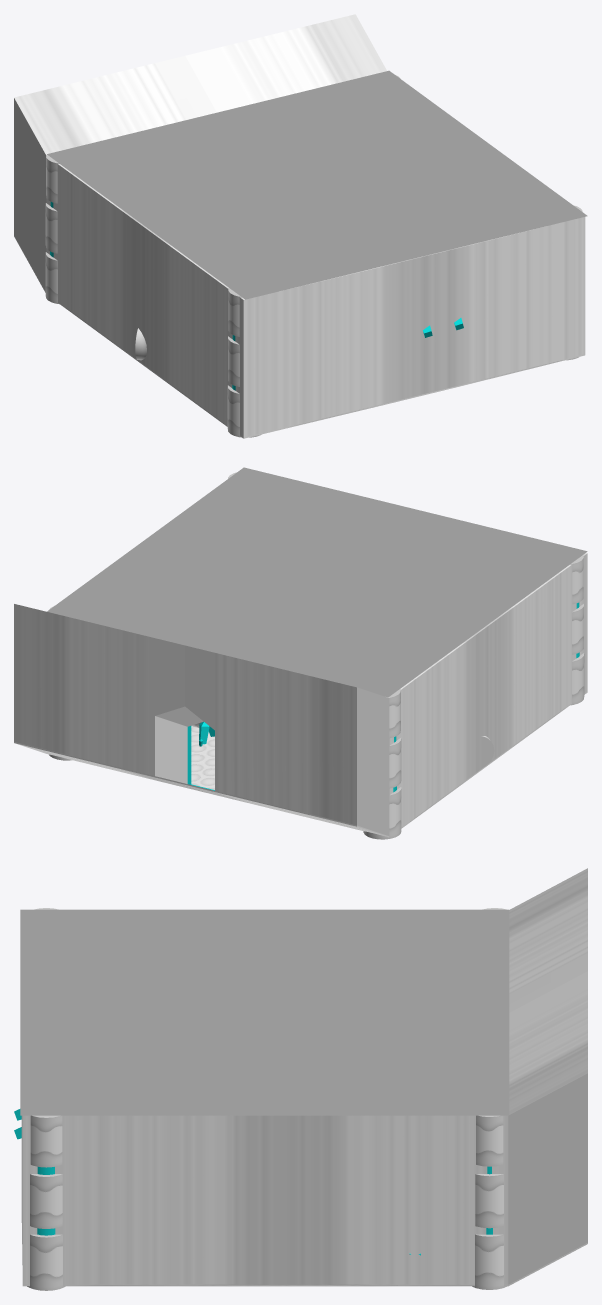
File: SM_Boss_Level_Test.fbx
The picture shows the model from 3 angles, top to bottom: view 1: azimuth 30°, elevation 25°; view 2: azimuth 150°, elevation 25°; view 3: azimuth 270°, elevation 25°; orthographic projection. The views are drawn at different scales.
Visible parts, largest first — view 1: Walls, Roof, pasted__pCylinder23, pasted__pCylinder22; view 2: Walls, Roof, pasted__pCylinder23, pasted__pCylinder22; view 3: Walls, Roof, pasted__pCylinder19, pasted__pCylinder24.
Boxes of the visible parts, left/top/right/bottom form: Walls: left=14, top=14, right=585, bottom=438; Roof: left=47, top=70, right=587, bottom=299; pasted__pCylinder23: left=45, top=155, right=59, bottom=304; pasted__pCylinder22: left=227, top=288, right=261, bottom=437; Walls: left=14, top=553, right=587, bottom=837; Roof: left=47, top=467, right=587, bottom=697; pasted__pCylinder23: left=363, top=689, right=401, bottom=839; pasted__pCylinder22: left=570, top=555, right=584, bottom=705; Walls: left=21, top=868, right=587, bottom=1286; Roof: left=20, top=909, right=509, bottom=1115; pasted__pCylinder19: left=27, top=1115, right=65, bottom=1290; pasted__pCylinder24: left=472, top=1115, right=506, bottom=1289.
Size of the model in its own units: 120 by 61.32 by 137.
Materials: 10 (4 with a texture image).
